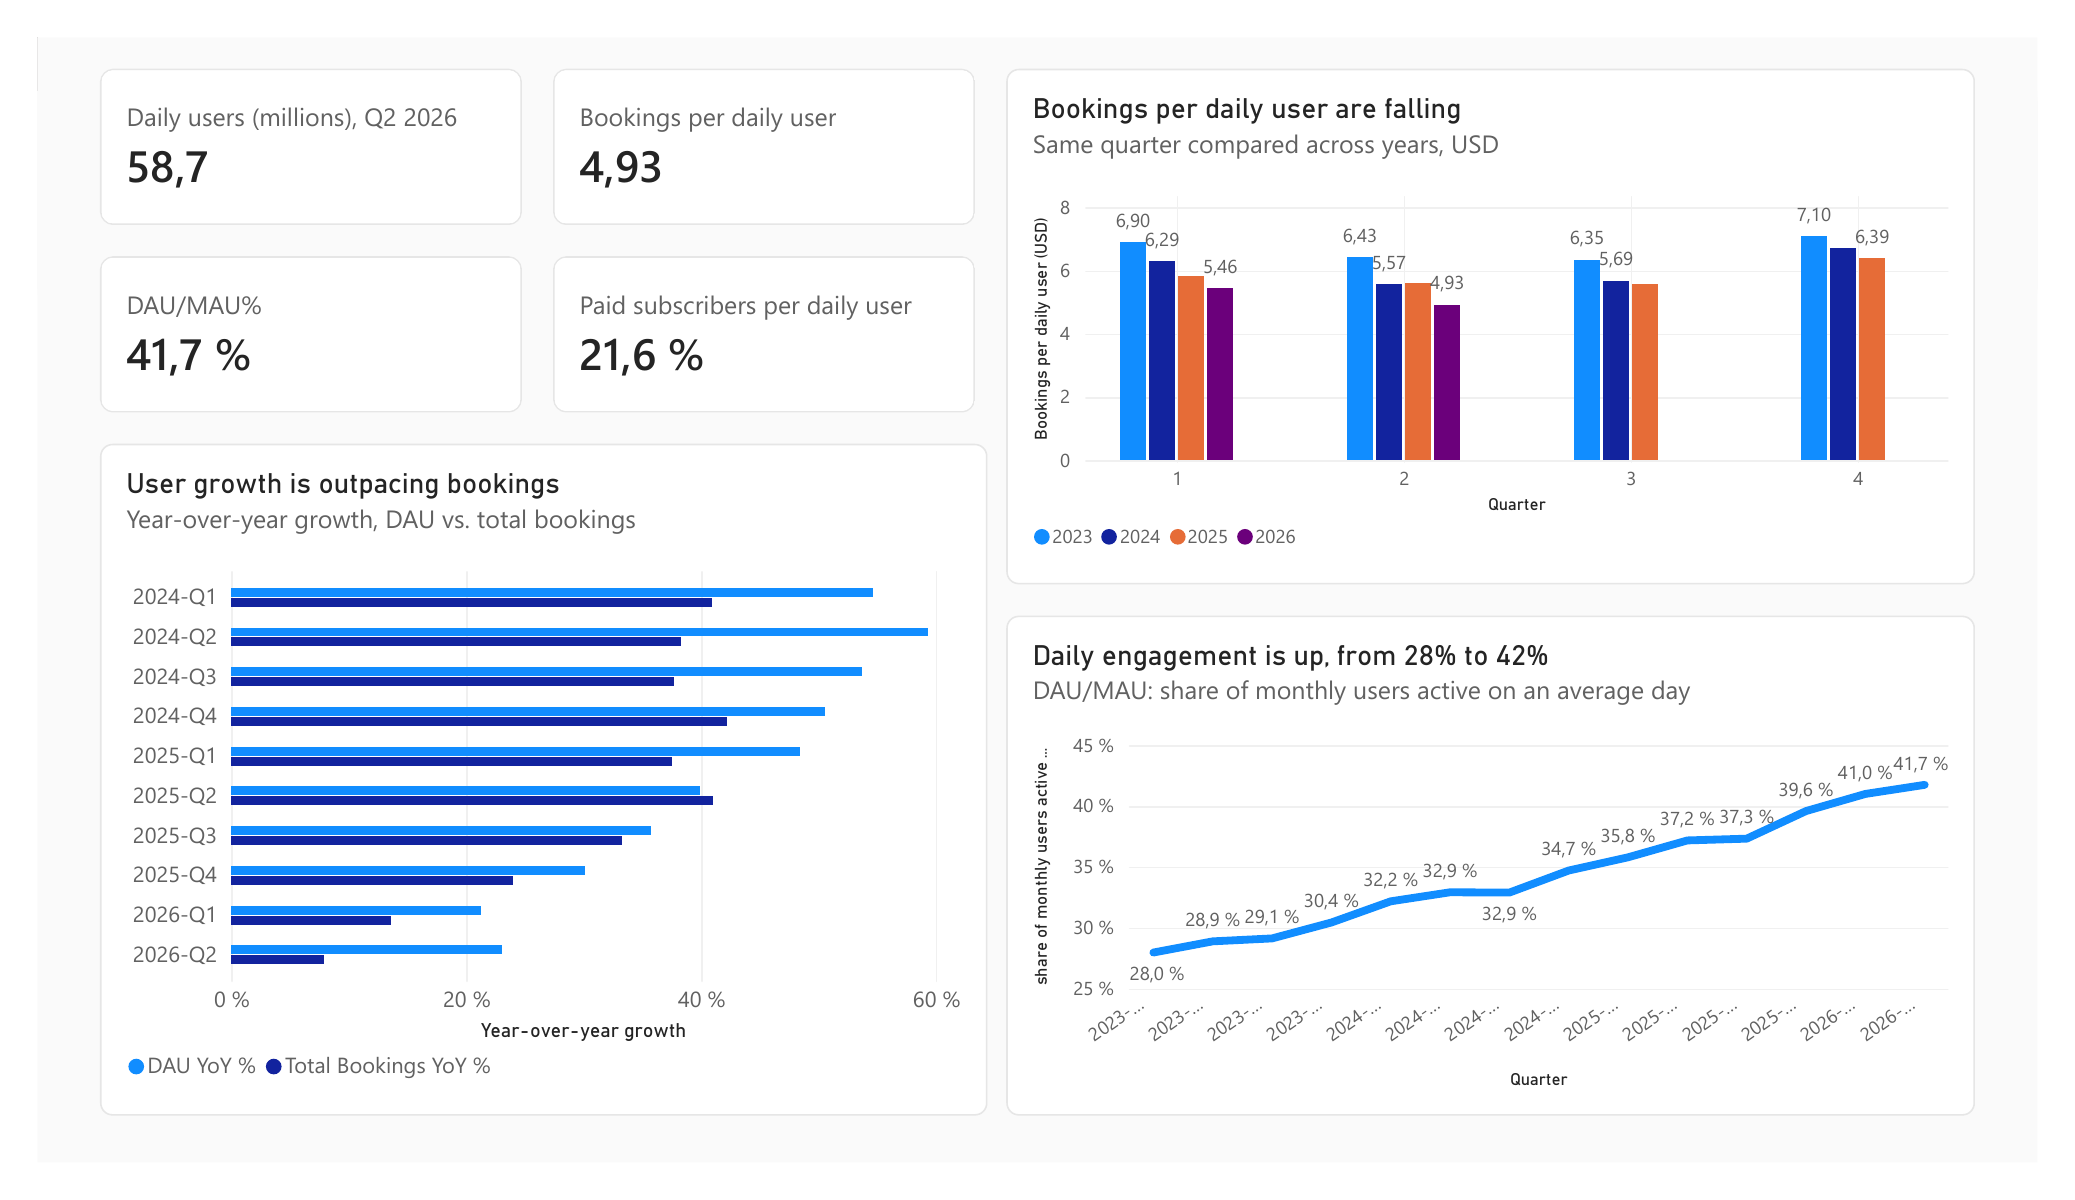

This screenshot's page, from the dashboard's own definition file:
{"tool":"powerbi","page":{"name":"Dashboard","canvas":[1280,720],"ordinal":1},"visuals":[{"type":"clusteredColumnChart","title":"Bookings per daily user are falling","fields":{"Category":["duolingo_quarterly_kpis.quarter_num"],"Series":["duolingo_quarterly_kpis.year"],"Y":["duolingo_quarterly_kpis.Bookings per DAU"]},"box":[620.1,20.4,620,330],"z":0},{"type":"lineChart","title":"Daily engagement is up, from 28% to 42%","fields":{"Category":["duolingo_quarterly_kpis.quarter"],"Y":["duolingo_quarterly_kpis.DAU/MAU %"]},"box":[620,370,620,320],"z":1000},{"type":"cardVisual","fields":{"Data":["duolingo_quarterly_kpis.DAU"]},"box":[40,20,270,100],"z":2000},{"type":"cardVisual","fields":{"Data":["duolingo_quarterly_kpis.DAU/MAU %"]},"box":[40,140,270,100],"z":3000},{"type":"cardVisual","fields":{"Data":["duolingo_quarterly_kpis.Bookings per DAU"]},"box":[330,20,270,100],"z":4000},{"type":"cardVisual","fields":{"Data":["duolingo_quarterly_kpis.Paid Subs per DAU"]},"box":[330,140,270,100],"z":5000},{"type":"clusteredBarChart","title":"User growth is outpacing bookings","fields":{"Category":["Date.Quarter Label"],"Y":["duolingo_quarterly_kpis.DAU YoY %","duolingo_quarterly_kpis.Total Bookings YoY %"]},"box":[40,260,568,430],"z":6000}]}

Visuals, with their boxes on the page's 1280x720 design canvas (x1, y1, x2, y2). These are canvas units, not pixel positions in the 2075x1200 screenshot, which may show the page scaled, cropped or inside an application window:
"Bookings per daily user are falling" clusteredColumnChart: left=620, top=20, right=1240, bottom=350
"Daily engagement is up, from 28% to 42%" lineChart: left=620, top=370, right=1240, bottom=690
cardVisual - duolingo_quarterly_kpis.DAU: left=40, top=20, right=310, bottom=120
cardVisual - duolingo_quarterly_kpis.DAU/MAU %: left=40, top=140, right=310, bottom=240
cardVisual - duolingo_quarterly_kpis.Bookings per DAU: left=330, top=20, right=600, bottom=120
cardVisual - duolingo_quarterly_kpis.Paid Subs per DAU: left=330, top=140, right=600, bottom=240
"User growth is outpacing bookings" clusteredBarChart: left=40, top=260, right=608, bottom=690
